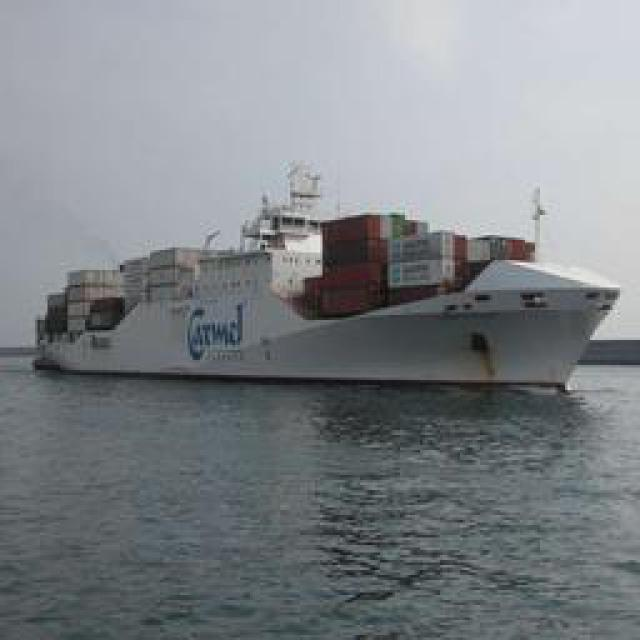Ship: (48, 227, 613, 390)
